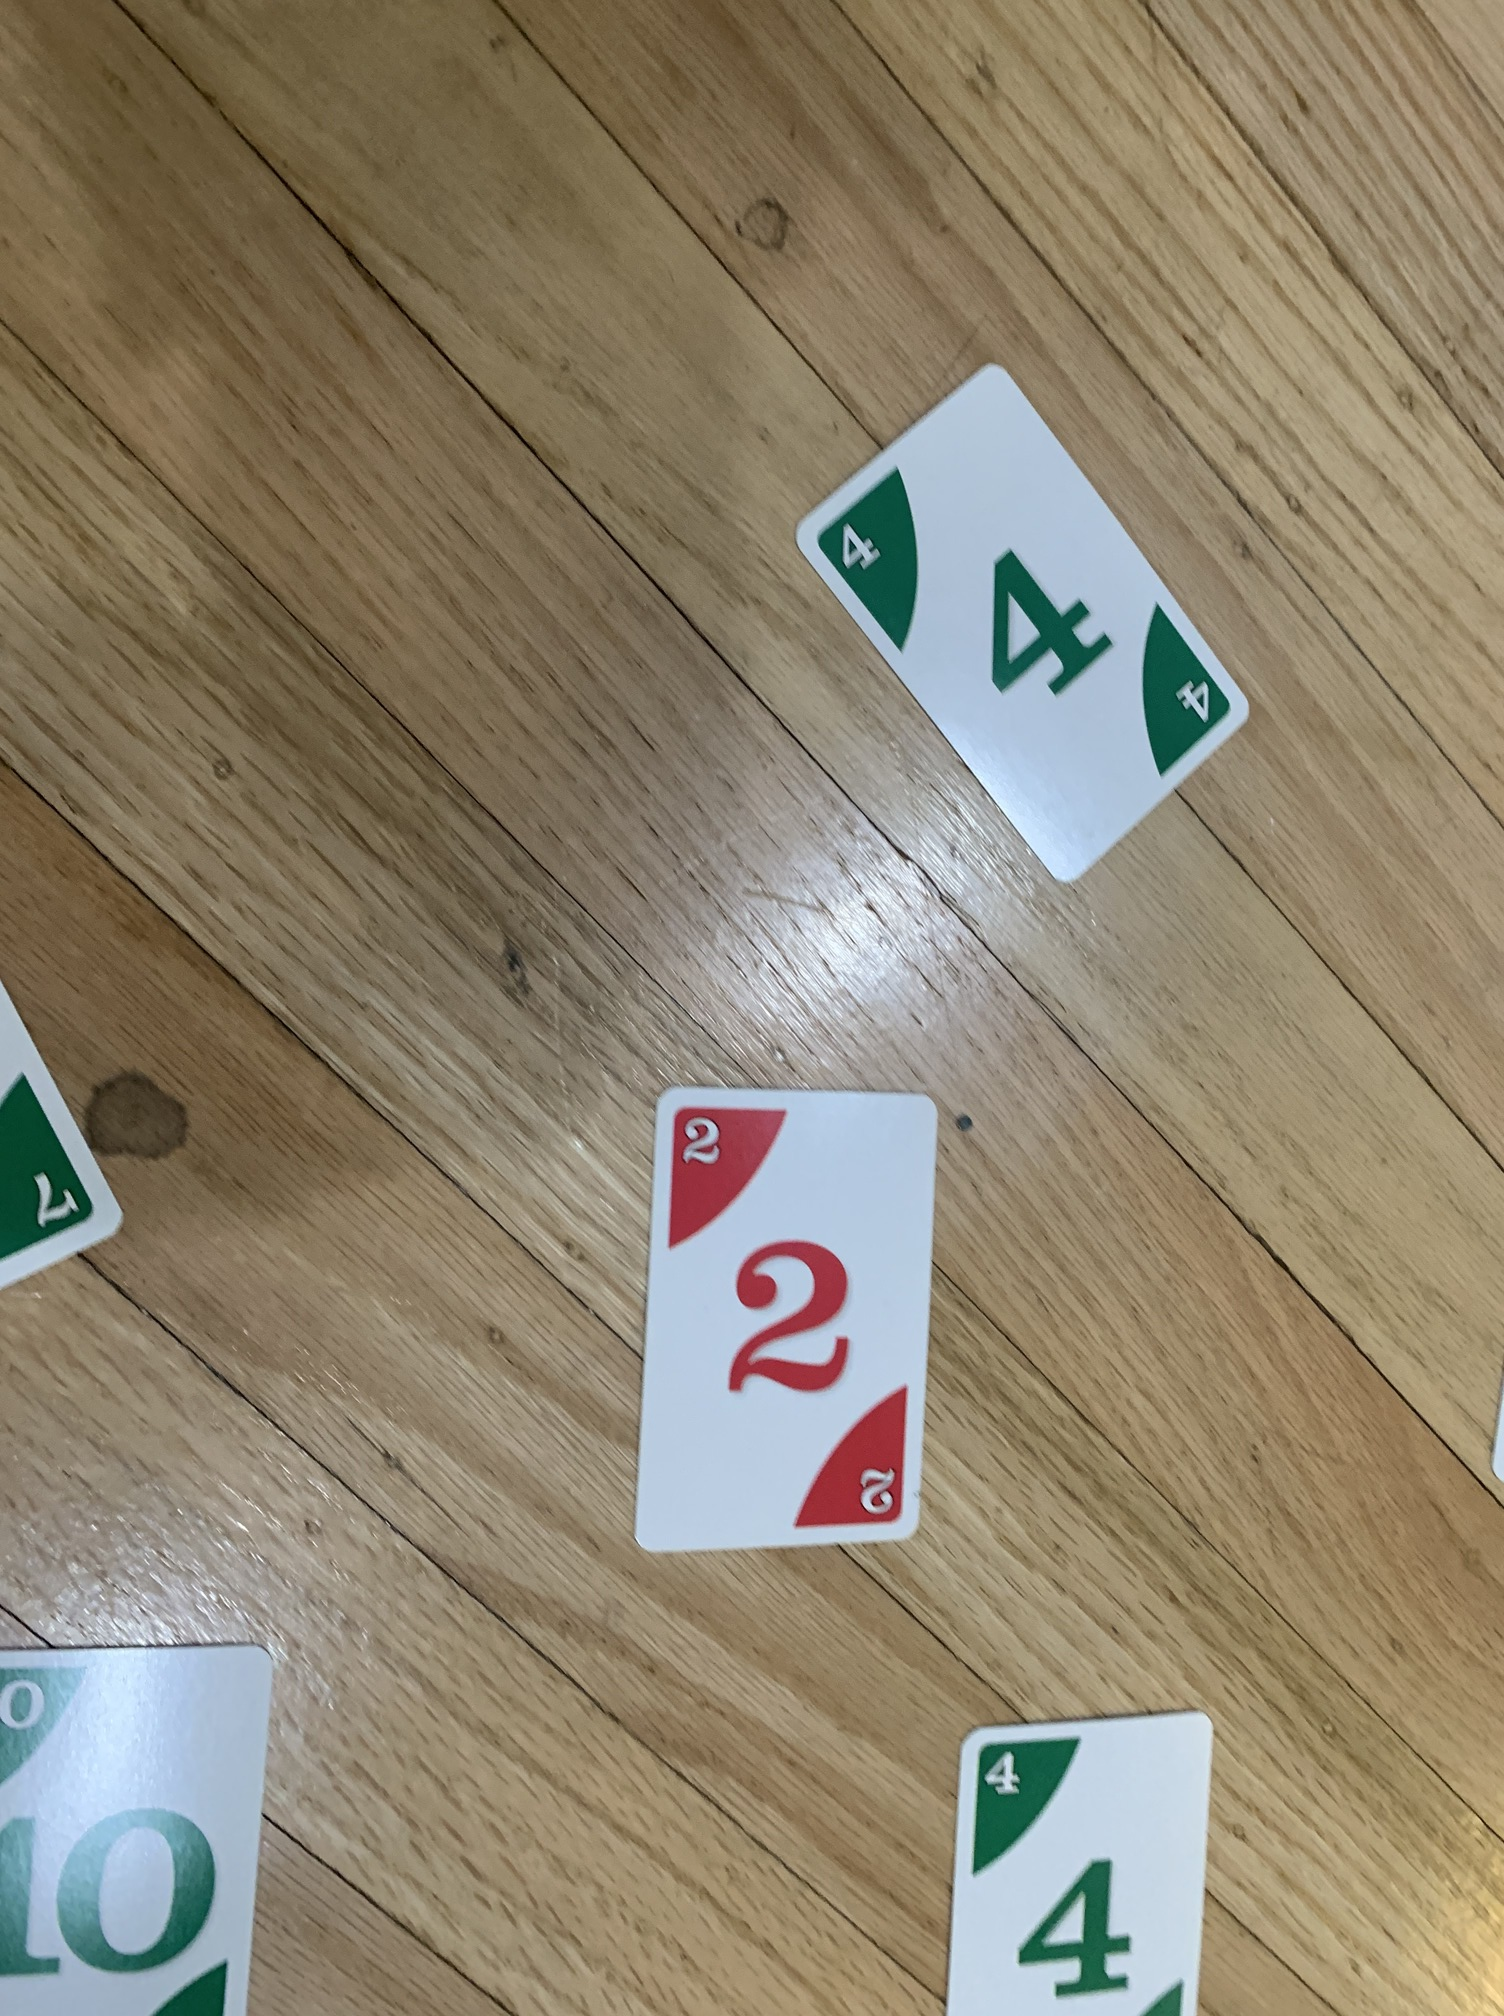four: (787, 355, 1254, 894), (935, 1700, 1223, 2016)
two: (641, 1081, 945, 1551)
